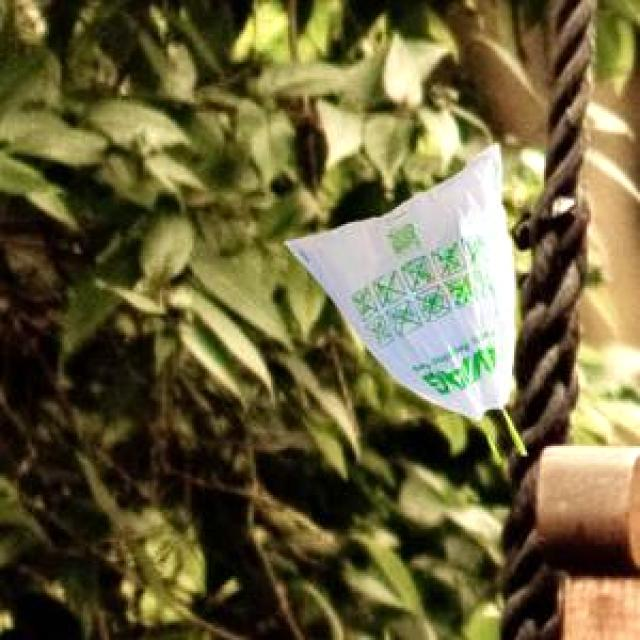Plastic_Bag: (282, 142, 524, 452)
